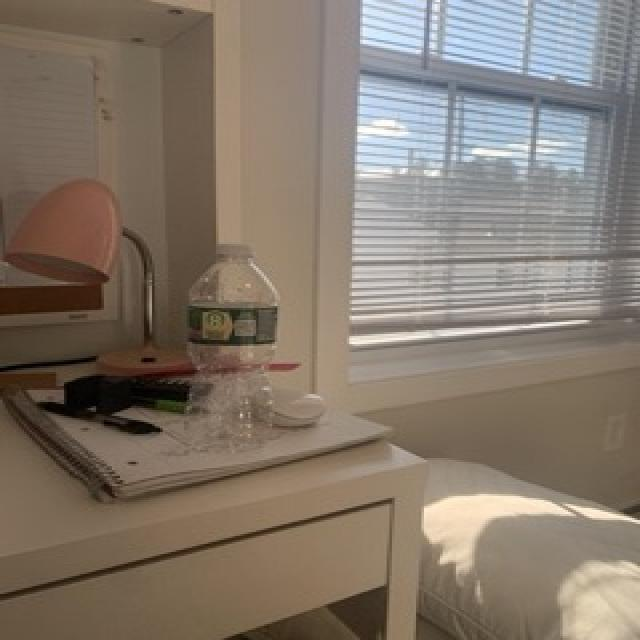water_bottle: (182, 240, 284, 463)
